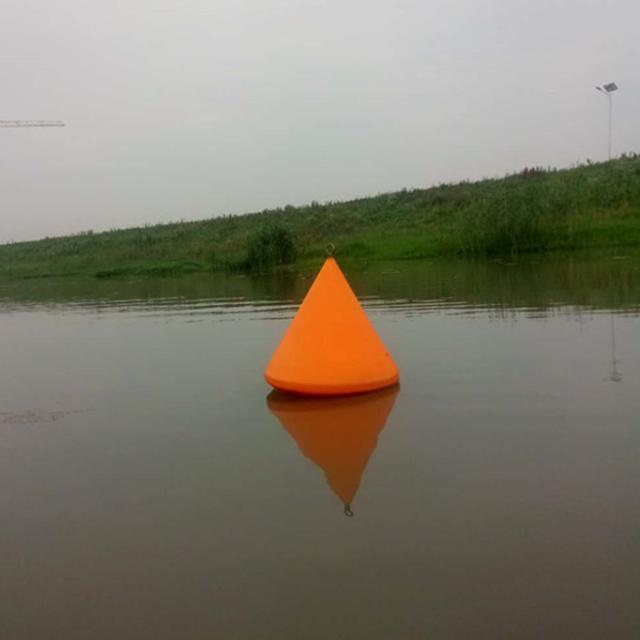buoy: (261, 243, 399, 397)
